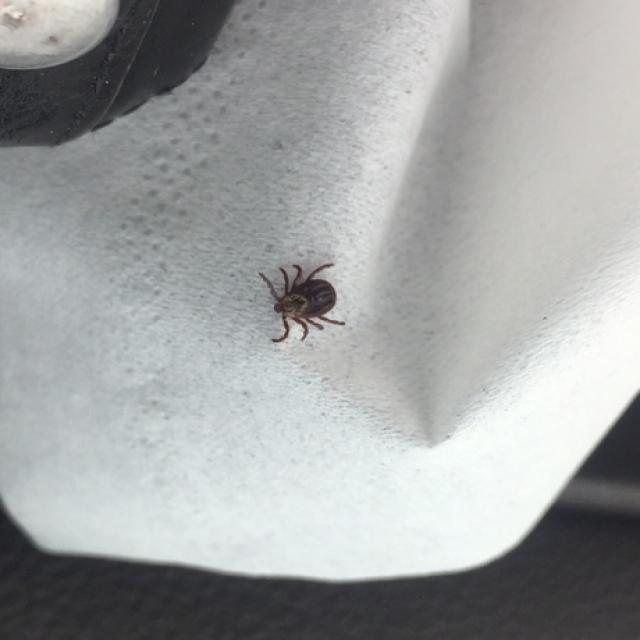Dermacentor Reticulatus-F: (257, 261, 345, 343)
